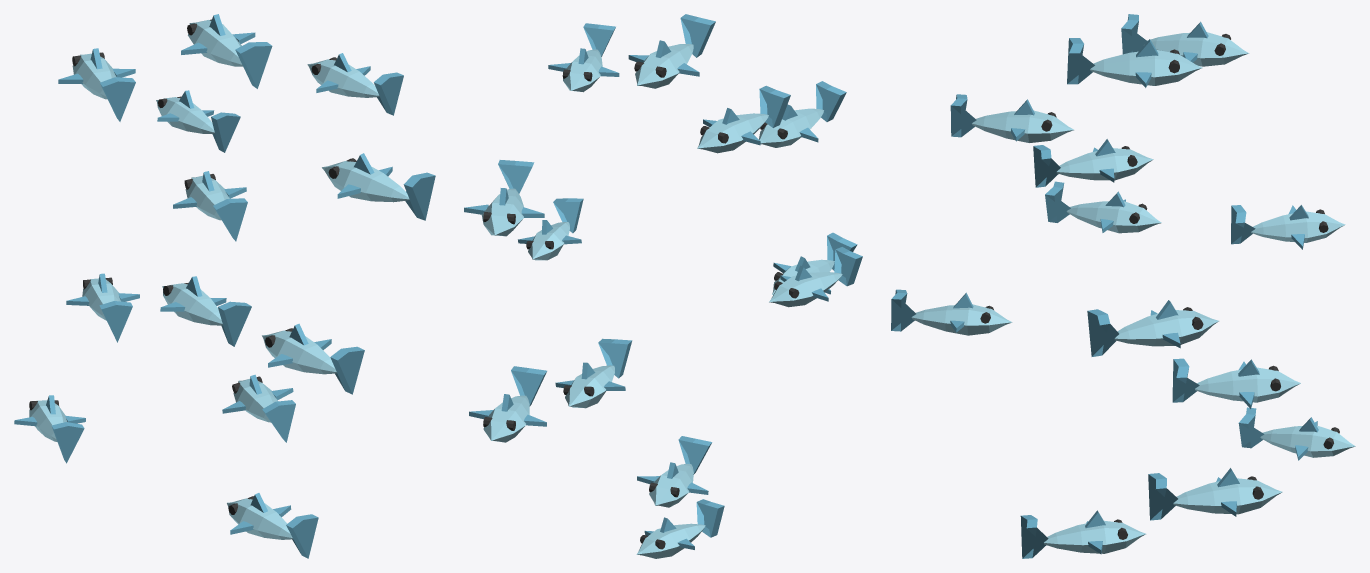
File: SchoolOfFish.fbx
The picture shows the model from 3 angles, left to right: view 1: azimuth 30°, elevation 25°; view 2: azimuth 150°, elevation 25°; view 3: azimuth 270°, elevation 25°; orthographic projection. The views are drawn at different scales.
Parts seen in each view (by area): view 1: Fish_05_Body, Fish_09_Body, Fish_01_Body, Fish_11_Body, Fish_07_Body, Fish_00_Body, Fish_03_Body, Fish_09_Tail, Fish_02_Body, Fish_00_Tail, Fish_05_Tail, Fish_04_Body (+12 smaller); view 2: Fish_02_Body, Fish_00_Body, Fish_06_Body, Fish_09_Body, Fish_10_Body, Fish_04_Body, Fish_07_Body, Fish_05_Body, Fish_11_Body, Fish_01_Body, Fish_03_Body, Fish_00_Tail (+11 smaller); view 3: Fish_00_Body, Fish_09_Body, Fish_05_Body, Fish_07_Body, Fish_11_Body, Fish_04_Body, Fish_08_Body, Fish_01_Body, Fish_02_Body, Fish_06_Body, Fish_10_Body, Fish_03_Body (+12 smaller).
Boxes of the visible parts, box(x1,y1,x2,y2) form: Fish_05_Body: box(322, 161, 409, 202); Fish_09_Body: box(262, 330, 336, 374); Fish_01_Body: box(307, 59, 379, 97); Fish_11_Body: box(227, 498, 292, 539); Fish_07_Body: box(162, 283, 222, 325); Fish_00_Body: box(188, 20, 242, 66); Fish_03_Body: box(156, 97, 214, 133); Fish_09_Tail: box(330, 346, 364, 394); Fish_02_Body: box(72, 53, 116, 99); Fish_00_Tail: box(235, 42, 272, 88); Fish_05_Tail: box(403, 172, 435, 220); Fish_04_Body: box(185, 175, 229, 220); Fish_02_Body: box(697, 113, 768, 153); Fish_00_Body: box(635, 44, 693, 88); Fish_06_Body: box(769, 272, 842, 307); Fish_09_Body: box(483, 395, 529, 442); Fish_10_Body: box(636, 523, 705, 558); Fish_04_Body: box(759, 108, 823, 147); Fish_07_Body: box(565, 365, 614, 408); Fish_05_Body: box(481, 188, 523, 236); Fish_11_Body: box(649, 464, 693, 507); Fish_01_Body: box(563, 49, 602, 92); Fish_03_Body: box(528, 222, 569, 260); Fish_00_Tail: box(680, 14, 715, 57); Fish_00_Body: box(1090, 50, 1202, 85); Fish_09_Body: box(1173, 478, 1282, 514); Fish_05_Body: box(1114, 310, 1218, 346); Fish_07_Body: box(1195, 367, 1300, 402); Fish_11_Body: box(1044, 520, 1145, 553); Fish_04_Body: box(972, 110, 1073, 142); Fish_08_Body: box(911, 304, 1012, 335); Fish_01_Body: box(1056, 148, 1153, 180); Fish_02_Body: box(1147, 32, 1248, 66); Fish_06_Body: box(1066, 201, 1161, 233); Fish_10_Body: box(1260, 425, 1355, 457); Fish_03_Body: box(1251, 211, 1345, 242).
Bounding box in the file's own units: 405 × 547 × 456.
